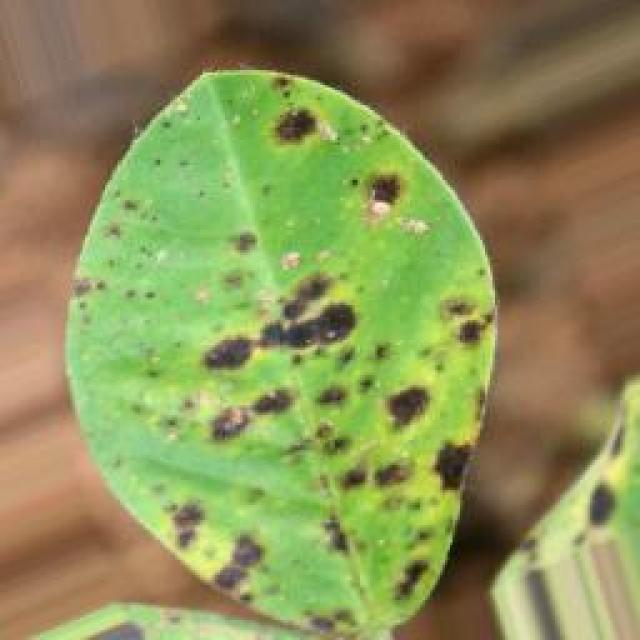Yellowish: (59, 27, 513, 640)
